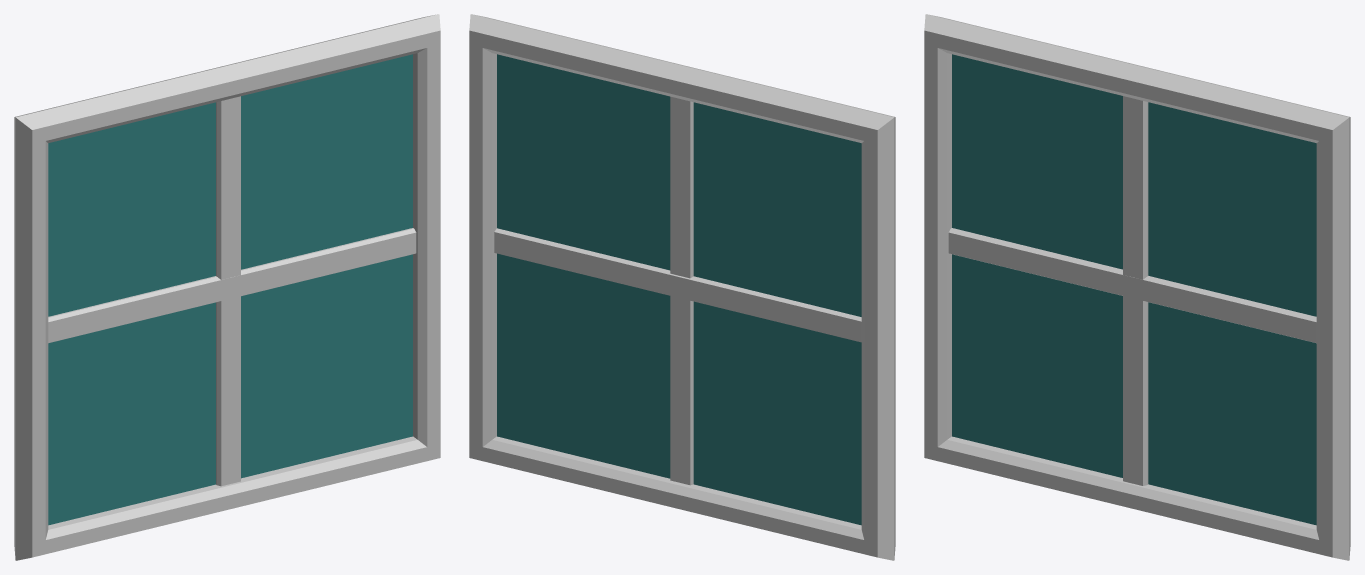
Rendered from Window C.glb.
The picture shows the model from 3 angles, left to right: view 1: azimuth 30°, elevation 25°; view 2: azimuth 150°, elevation 25°; view 3: azimuth 330°, elevation 25°; orthographic projection.
Parts seen in each view (by area): view 1: Window C; view 2: Window C; view 3: Window C.
Part boxes in pixels (left/top/right/bottom): Window C: left=14, top=14, right=440, bottom=560; Window C: left=469, top=14, right=895, bottom=560; Window C: left=924, top=14, right=1350, bottom=560.
Bounding box in the file's own units: 0.4011 × 0.4011 × 0.0294.
